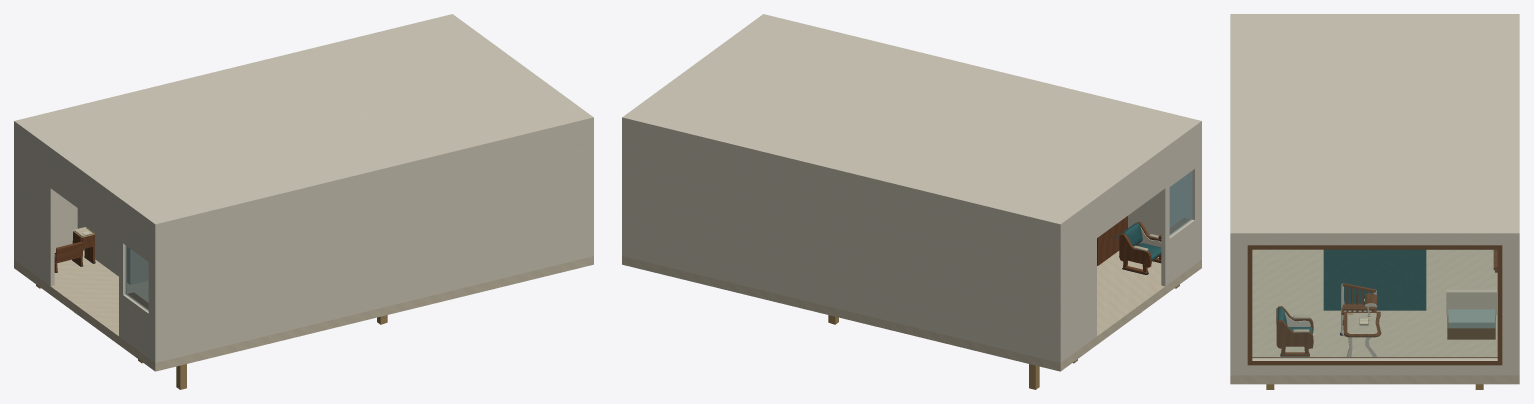
The model's file is NG428_PanoramicSuite_r001.glb.
3 renders of one model, left to right at view 1: azimuth 30°, elevation 25°; view 2: azimuth 150°, elevation 25°; view 3: azimuth 270°, elevation 25°, orthographic. The views are drawn at different scales.
Parts seen in each view (by area): view 1: NG428_RuntimeBatch_001, NG428_RoomFloor, NG428_ScreenedStreetGlass, NG428_RuntimeBatch_013; view 2: NG428_RuntimeBatch_001, NG428_RoomFloor, NG428_ScreenedStreetGlass, NG428_RuntimeBatch_049, NG428_RuntimeBatch_002; view 3: NG428_RuntimeBatch_001, NGP_428_PrivateViewPane, NG428_RoomFloor, NG428_RuntimeBatch_006, NGP_428_Frame_Sill, NGP_428_Frame_Head, NGP_428_ViewSeat_Back, NG428_RuntimeBatch_028, NG428_RuntimeBatch_007, NGP_428_ViewSeat_Cushion, NGP_428_Frame_Left, NGP_428_Frame_Right (+3 smaller).
Boxes of the visible parts, x1,y1,x2,y2 form: NG428_RuntimeBatch_001: (14,14,593,362); NG428_RoomFloor: (14,250,593,371); NG428_ScreenedStreetGlass: (125,245,148,310); NG428_RuntimeBatch_013: (54,231,95,271); NG428_RuntimeBatch_001: (622,14,1201,362); NG428_RoomFloor: (622,251,1201,371); NG428_ScreenedStreetGlass: (1169,171,1192,235); NG428_RuntimeBatch_049: (1119,221,1161,274); NG428_RuntimeBatch_002: (1097,216,1190,265); NG428_RuntimeBatch_001: (1230,14,1519,375); NGP_428_PrivateViewPane: (1252,250,1497,358); NG428_RoomFloor: (1230,249,1519,384); NG428_RuntimeBatch_006: (1323,249,1426,310); NGP_428_Frame_Sill: (1247,357,1502,365); NGP_428_Frame_Head: (1247,245,1502,249); NGP_428_ViewSeat_Back: (1446,289,1496,315); NG428_RuntimeBatch_028: (1276,306,1313,355); NG428_RuntimeBatch_007: (1341,283,1381,337); NGP_428_ViewSeat_Cushion: (1448,309,1494,328); NGP_428_Frame_Left: (1497,249,1502,360); NGP_428_Frame_Right: (1247,249,1252,360).
Bounding box in the file's own units: 12.9 × 5.31 × 7.2.
68 materials, 49 textured.
